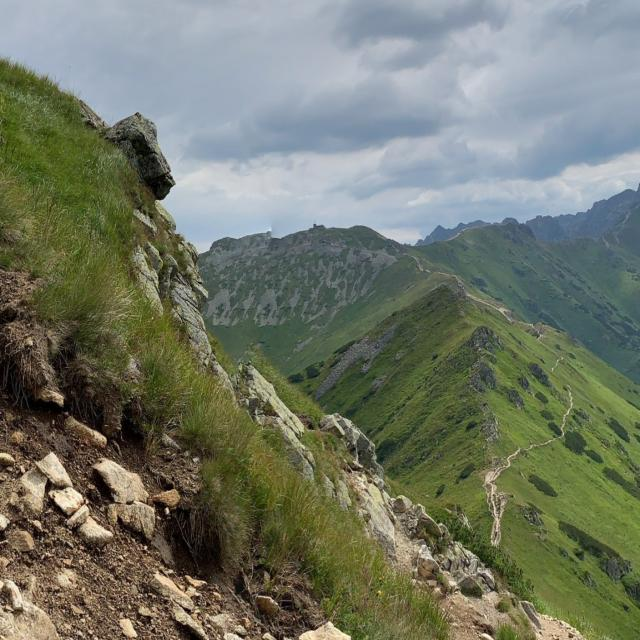Kasprowy Wierch: (250, 186, 391, 274)
Kozi Wierch: (581, 175, 623, 232)
